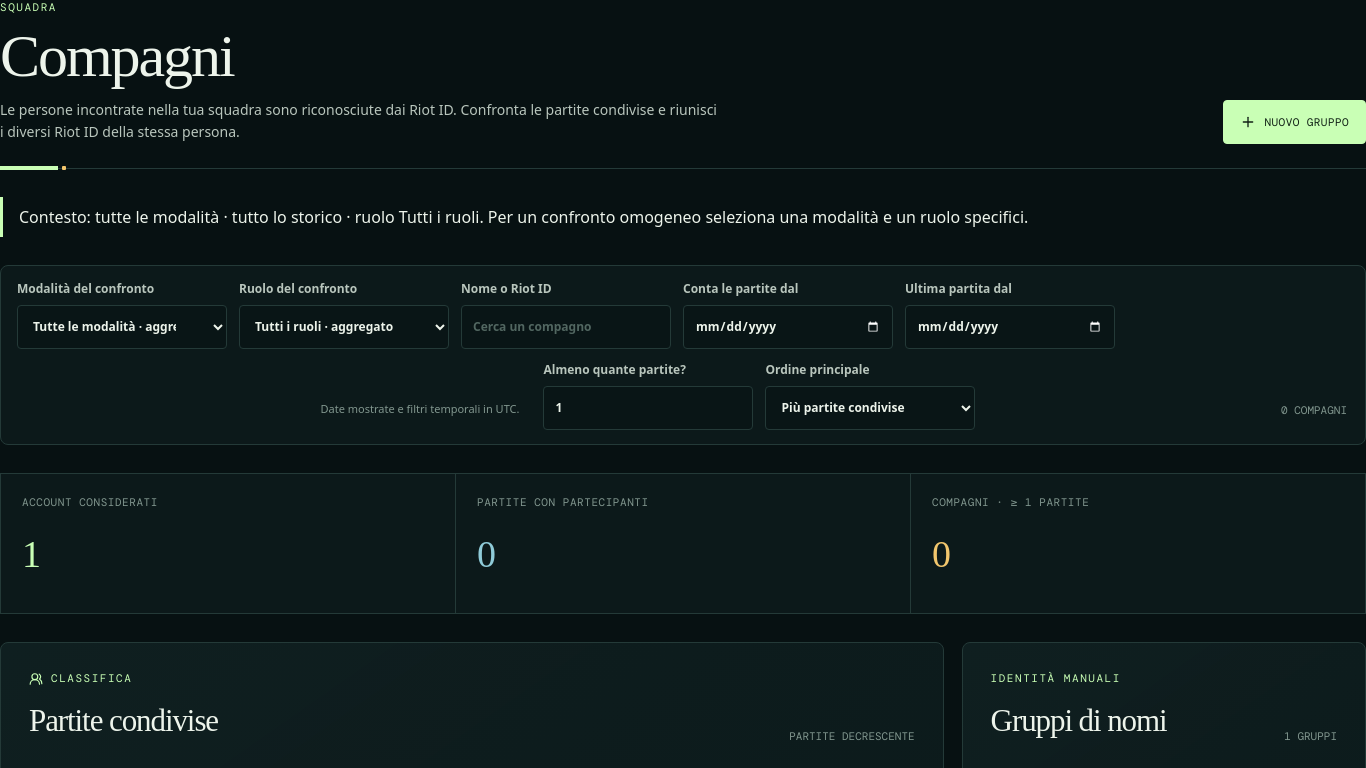
Test: conferme dei gruppi › conserva il modulo per create dopo200 incompleto e riprova solo su richiesta
The image size is (1366, 768).
Click the button "Nuovo gruppo": (1294, 122) [1222,100,1365,144]
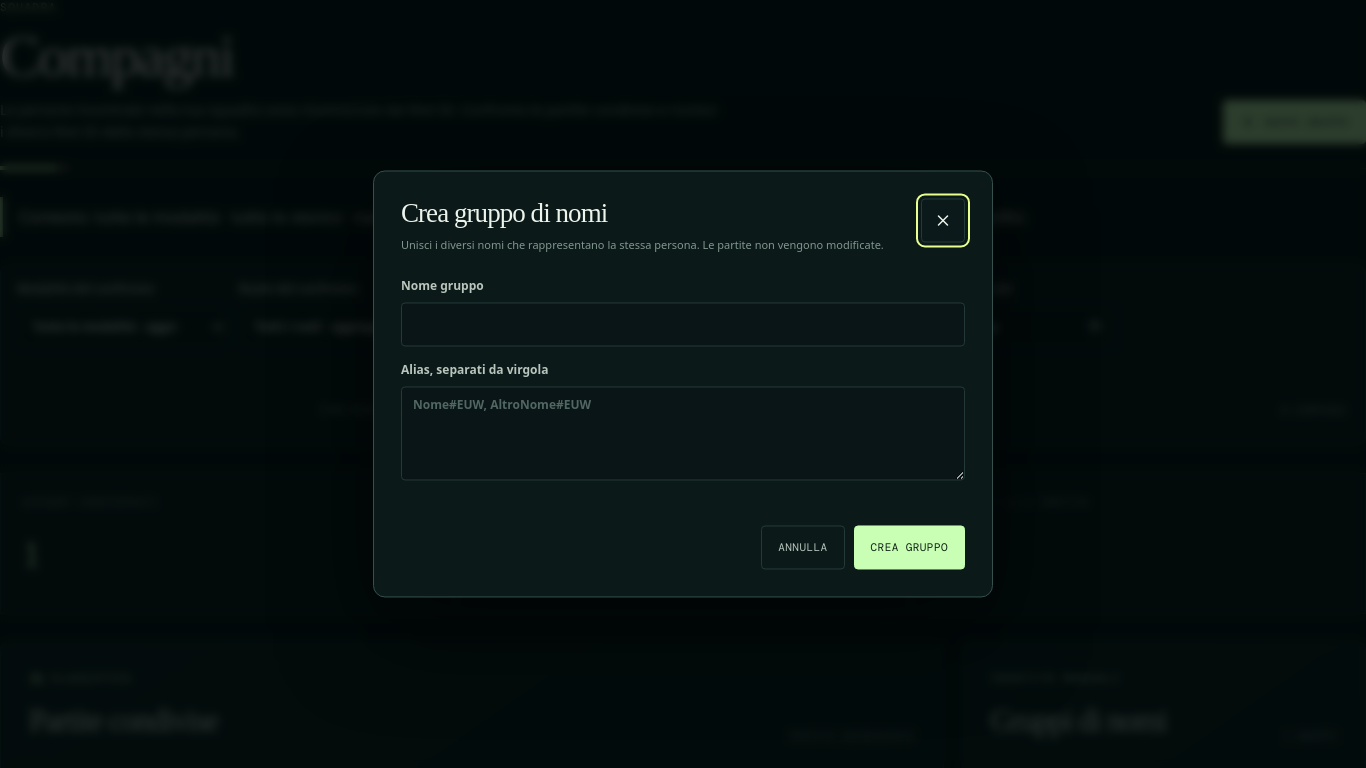
In the field labelled "Nome gruppo": (683, 324) [401,302,965,346], type "Nuova Équipe"
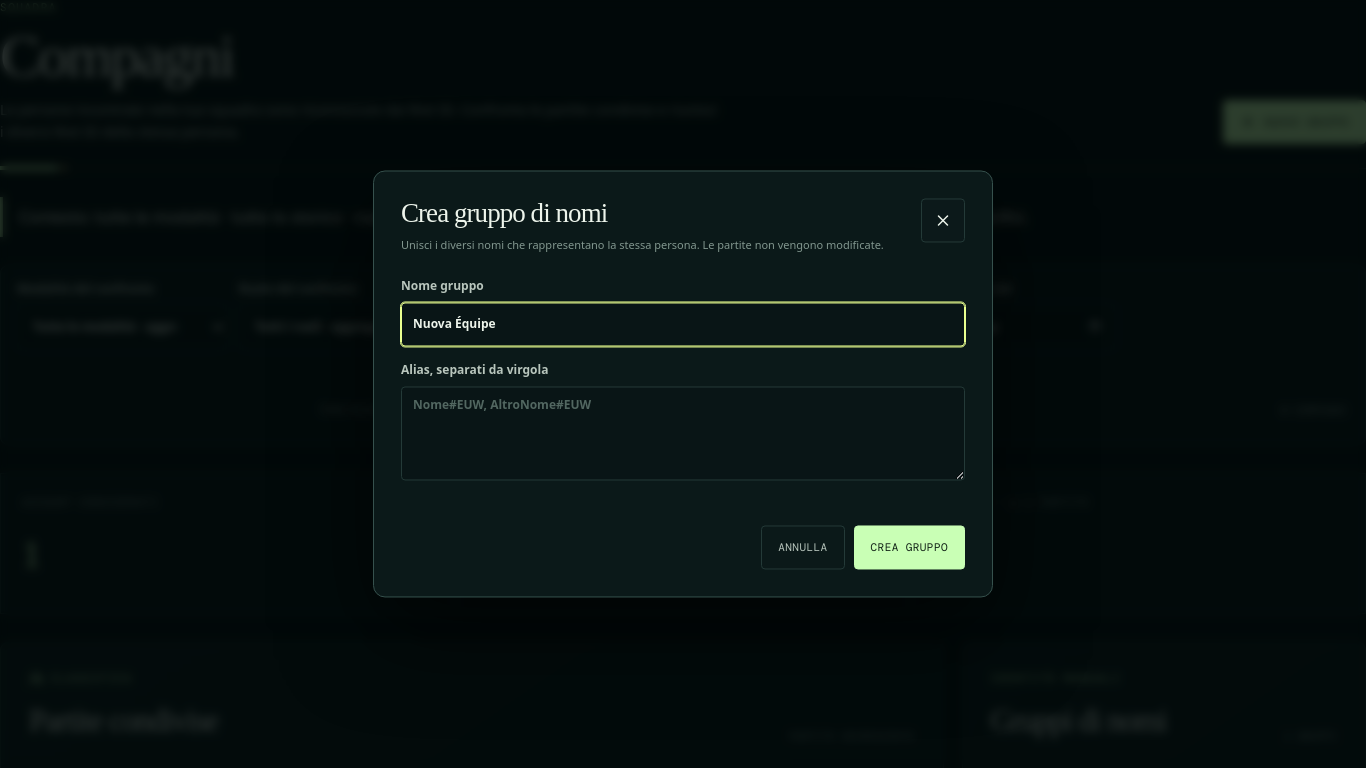
In the text box labelled "Alias, separati da virgola": (683, 434) [401,386,965,480], type "Altro#EUW"
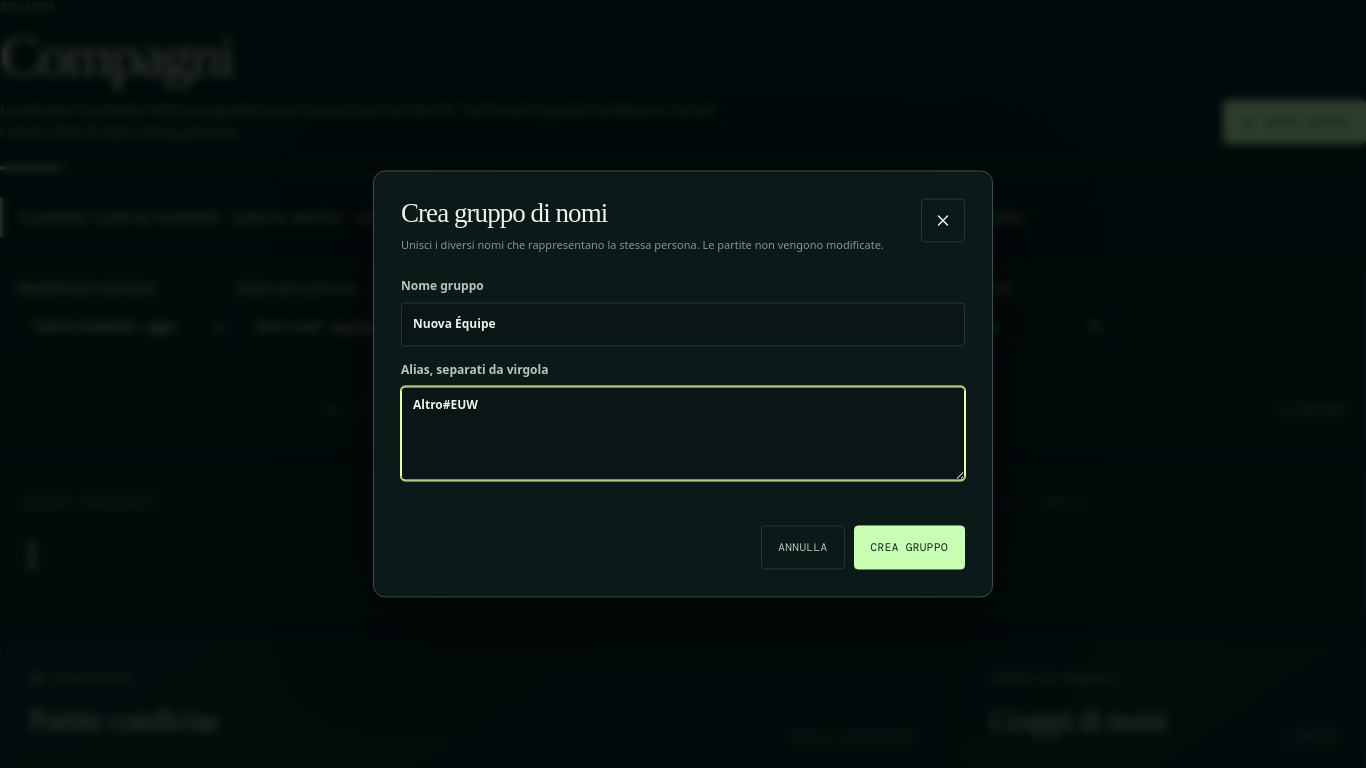
Click the button "Crea gruppo": (909, 548) [854,526,965,570]
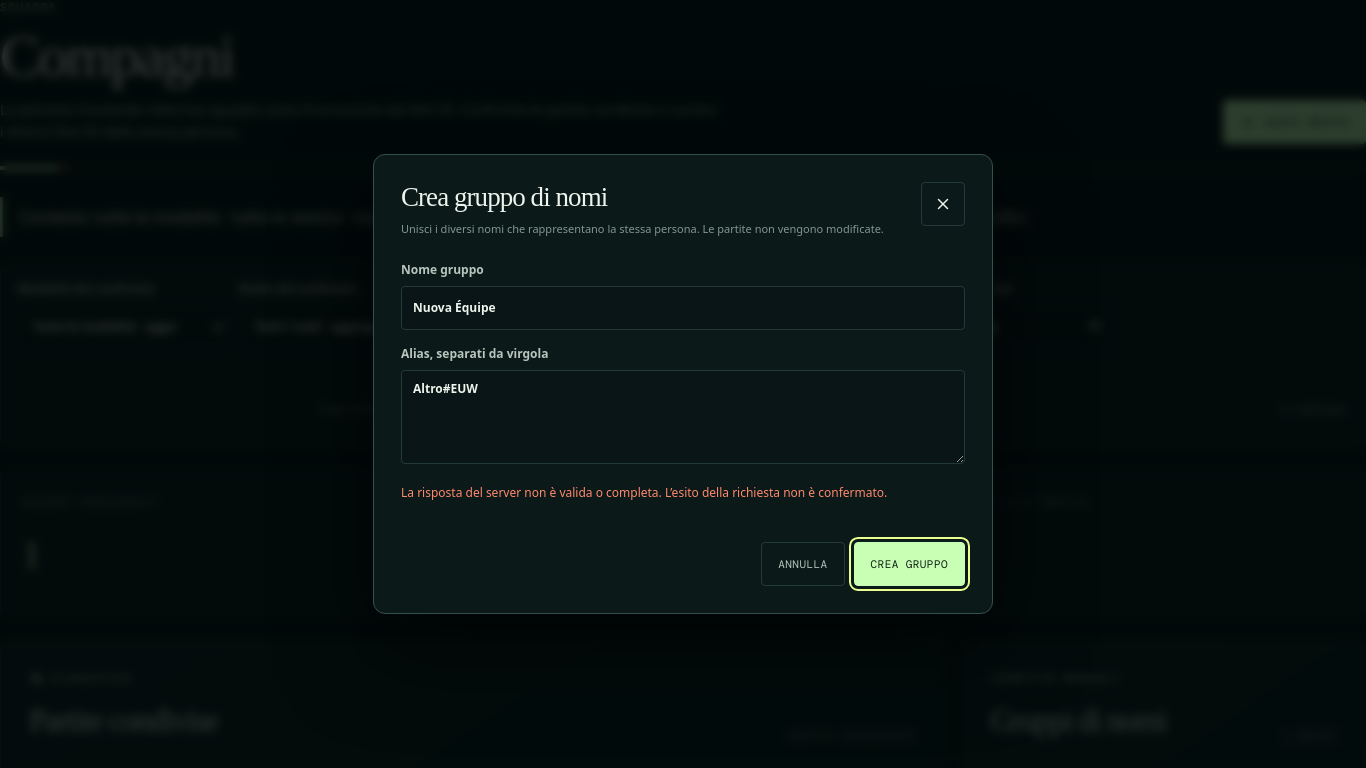
Expected: the button "Crea gruppo" is enabled
Expected: the message shows "L’esito della richiesta non è confermato", [401,484,887,501]
Click the button "Crea gruppo": (909, 564) [854,542,965,586]
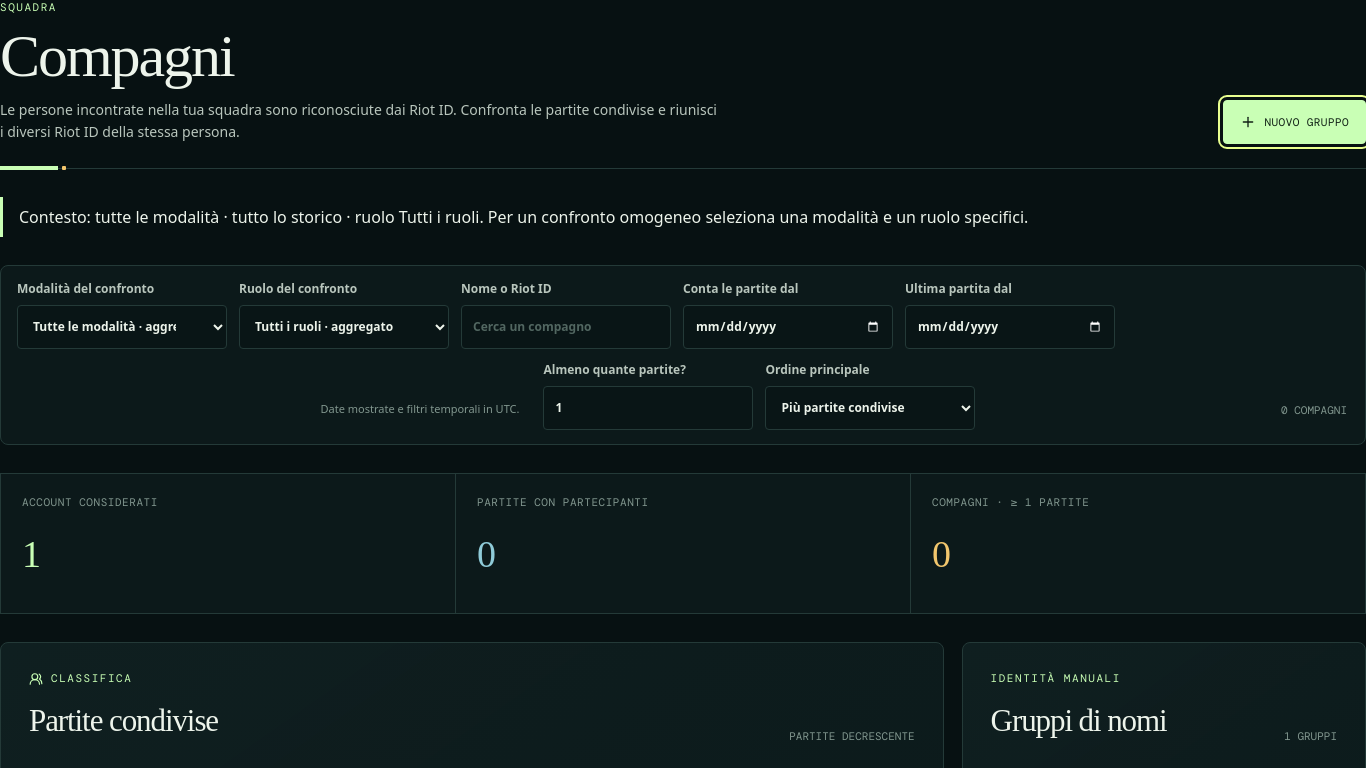
Expected: the dialog is gone
